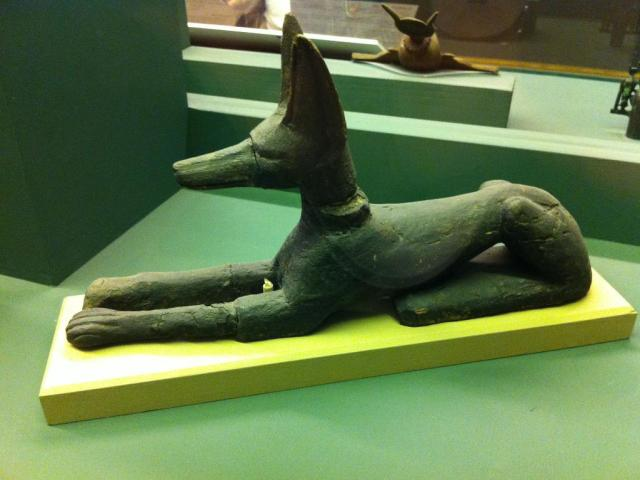Dog: (64, 12, 592, 352)
